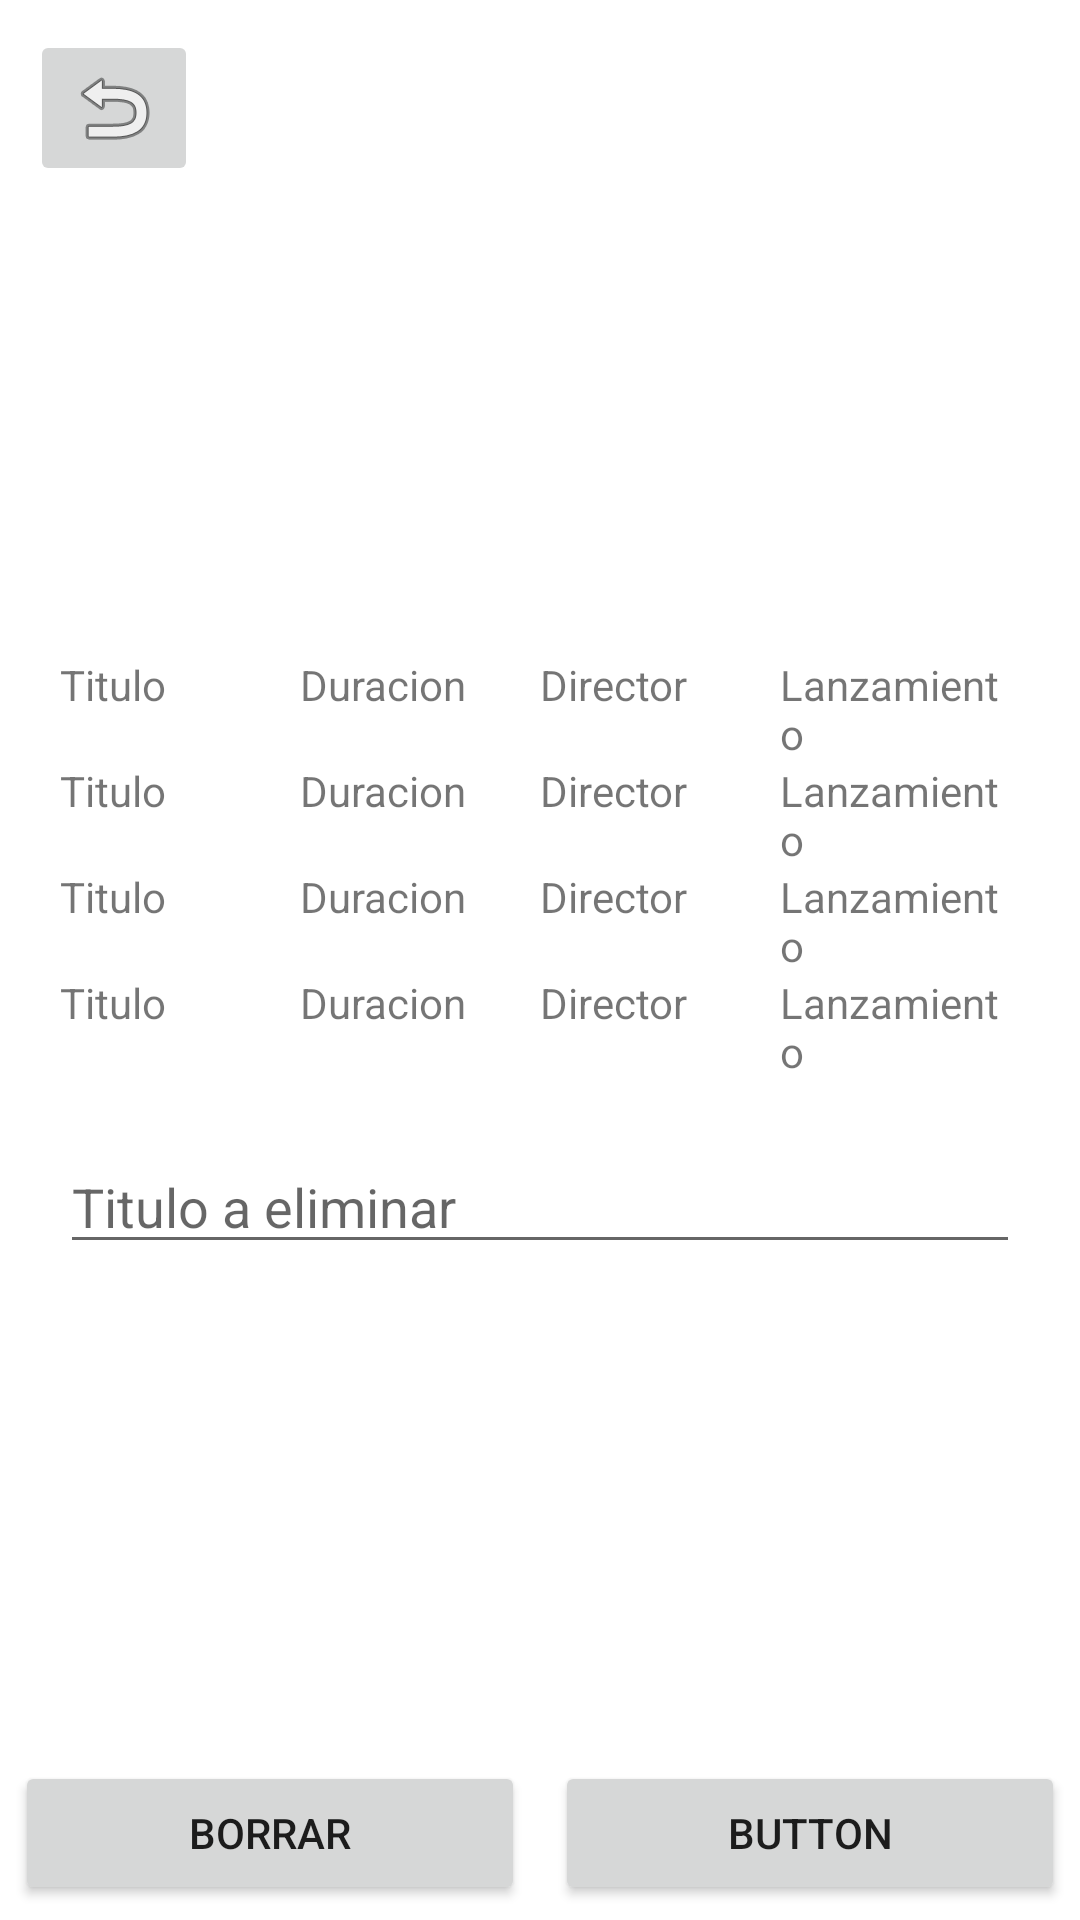

Icons on this 1080x1920 Android screen, each with the point to tap as [x,y]:
revert: [114,108]
